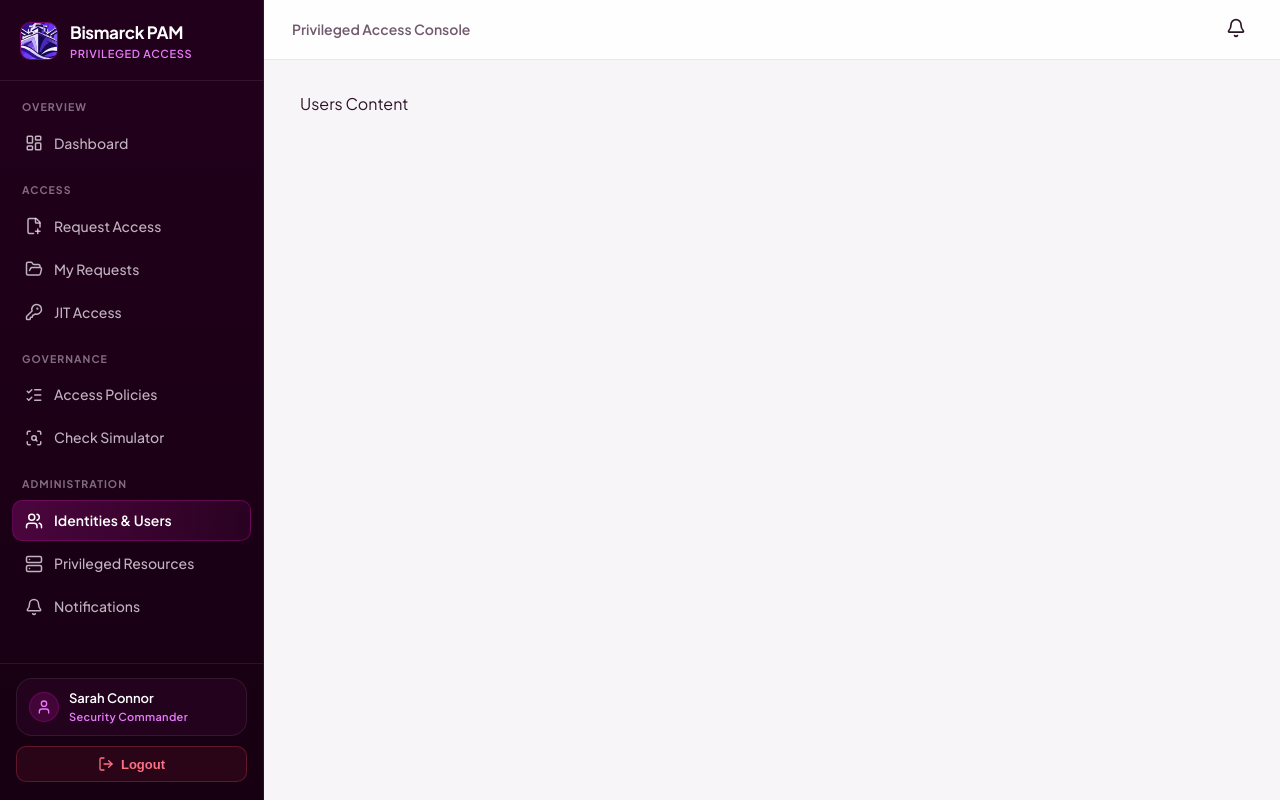
Scenario: AppLayout Component & Navigation Shell › navigates between /users and /resources when navigation links are clicked
Expected: the text "Users Content" is shown, left=300, top=93, right=408, bottom=114
Click the link "Privileged Resources" at (110, 563), box left=25, top=554, right=194, bottom=572
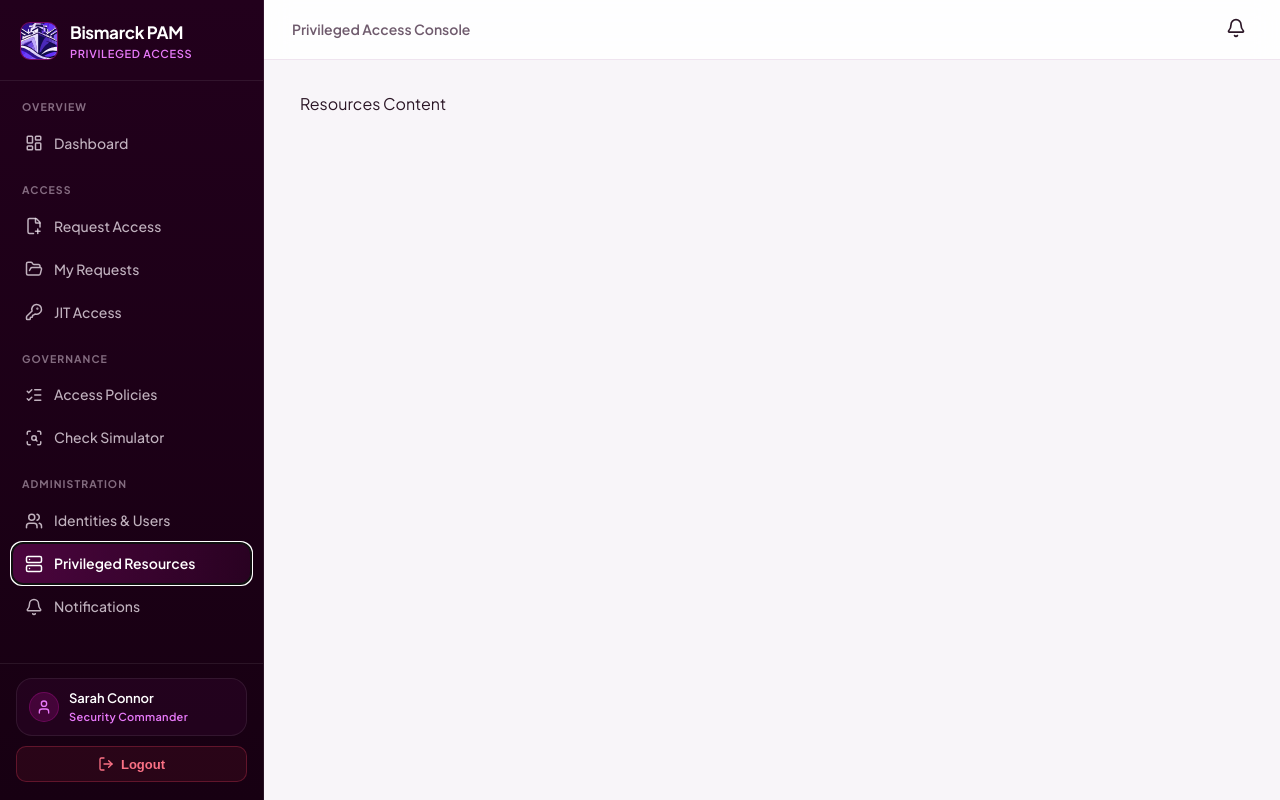
Now the text "Resources Content" is shown, box left=300, top=93, right=446, bottom=114
